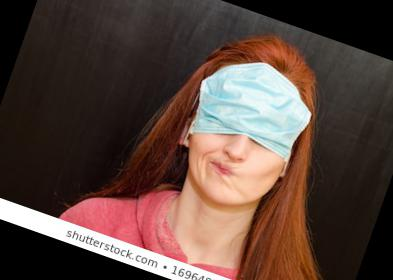mask_weared_incorrect: (170, 76, 309, 224)
